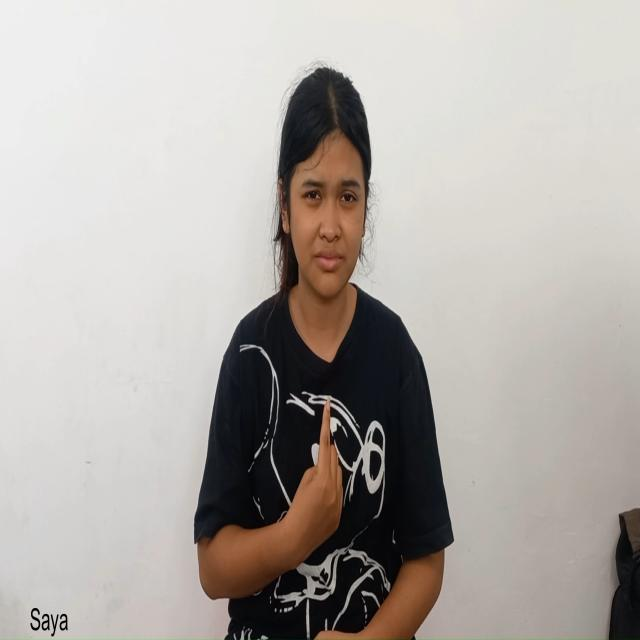Saya -BISINDO-: (195, 388, 346, 602)
